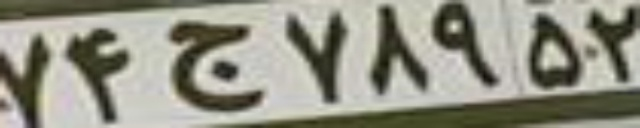2: (587, 6, 638, 82)
4: (62, 28, 132, 120)
5: (522, 10, 582, 89)
7: (281, 9, 350, 105), (0, 27, 56, 127)
8: (363, 3, 428, 94)
9: (430, 3, 496, 85)
jim: (159, 19, 264, 111)
